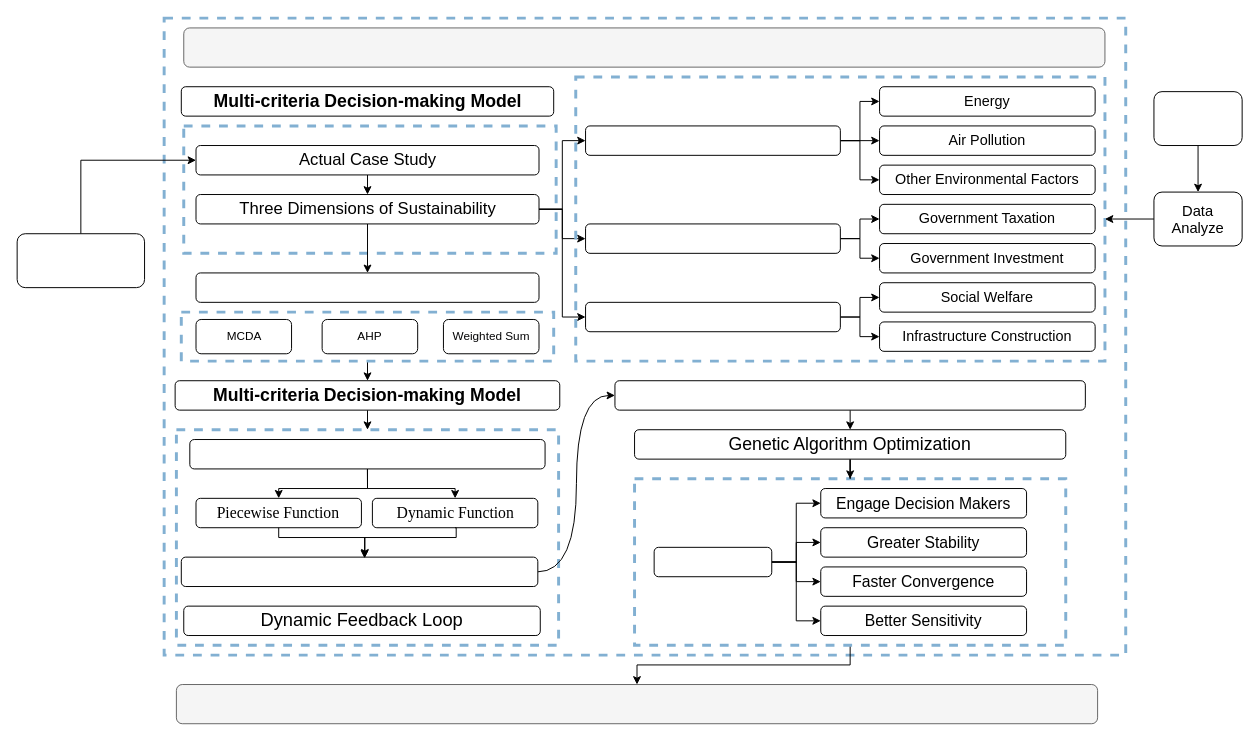
Some shapes in this 1259 by 741 pixel diagram are drawn without their labels. Each missing label, with the box of its shape:
Better decision: (653, 546, 772, 577)
Constraints Base on Criteria: (180, 556, 538, 587)
Environmental Management: (585, 125, 840, 155)
Final Decision: (175, 684, 1098, 724)
Finance & Economic: (585, 223, 840, 253)
Juneau's C urrent Tourism Dilemma: (16, 233, 145, 288)
Juneau's Public Data: (1153, 91, 1242, 146)
M ulticriteria Analysis: (195, 272, 539, 302)
Multi-criteria Optimization F unction: (189, 439, 545, 469)
Nonlinear Multi-Objective Programming: (614, 380, 1085, 410)
Social Management: (585, 301, 840, 332)
Tourism-policy Making with Multi-criteria Dimension: (183, 27, 1105, 67)
